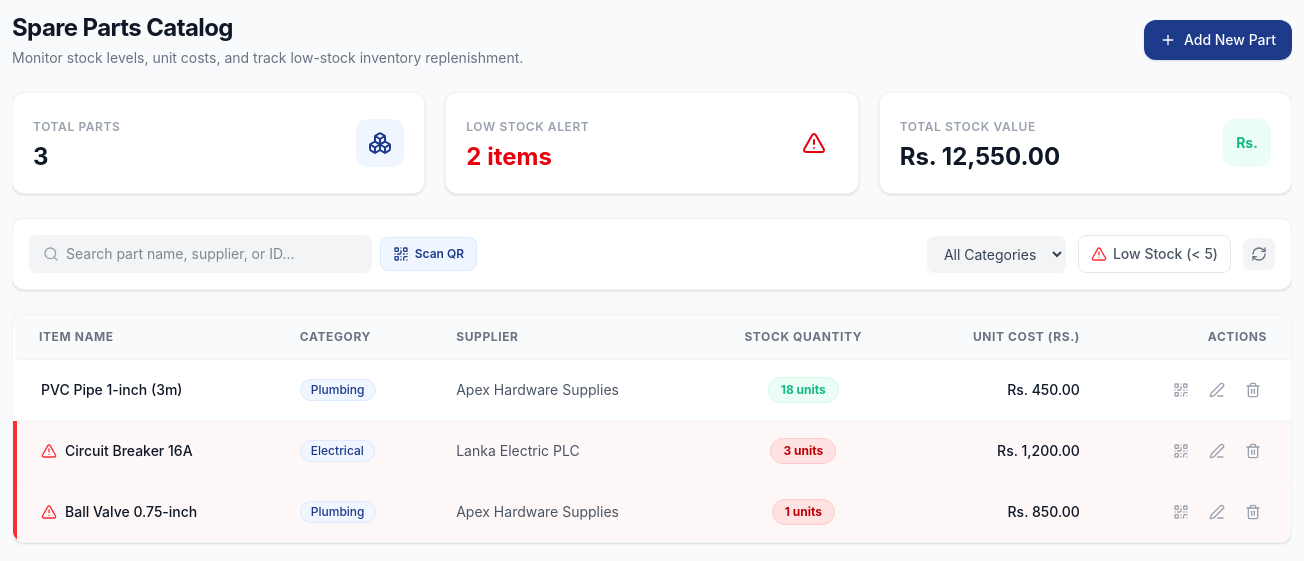
Test: InventoryDashboard - UI & Low-Stock Alert Suite › filters the catalog table to display only low-stock parts when the low stock button is clicked
expect the text "PVC Pipe 1-inch (3m)" is shown: met, box [41,380,182,400]
Step 1. Click the button "Low Stock (< 5)" → (1154, 254), box [1078,235,1231,273]
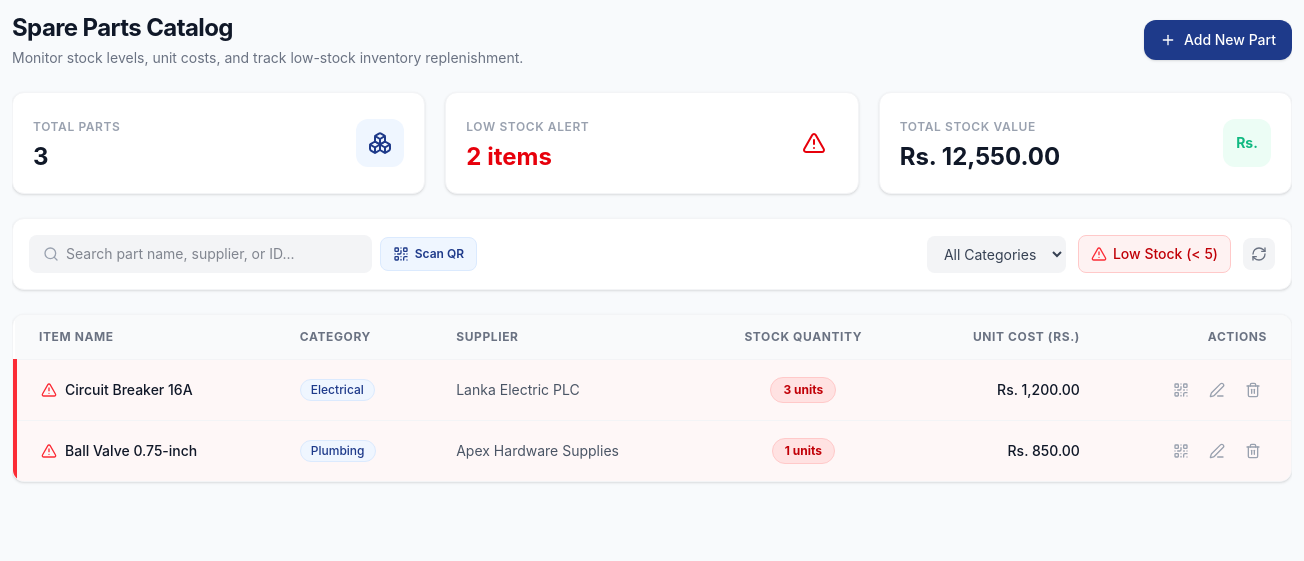
expect the text "Circuit Breaker 16A" is shown: met, box [65,380,193,400]
expect the text "PVC Pipe 1-inch (3m)" is gone: met
